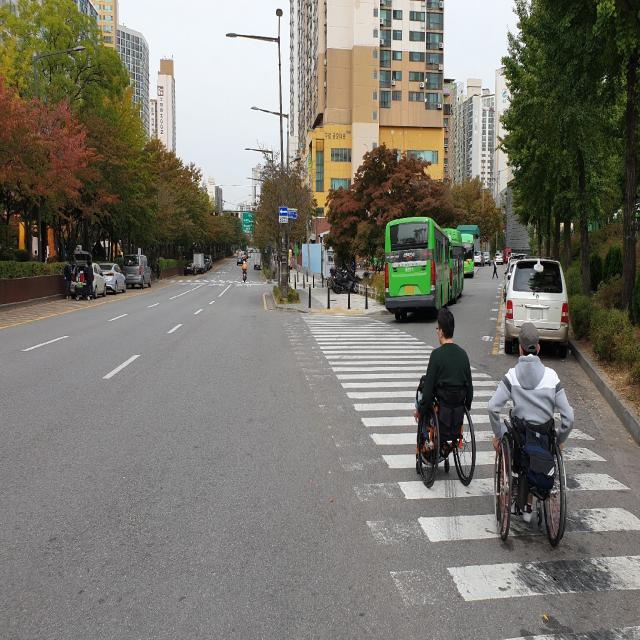횡단보도: (297, 309, 638, 636)
